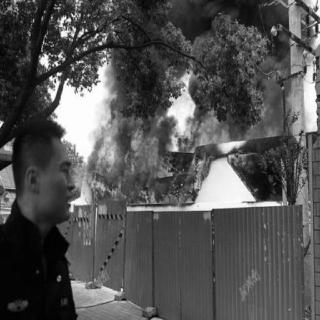Fire: (182, 103, 230, 150), (184, 151, 213, 201)
